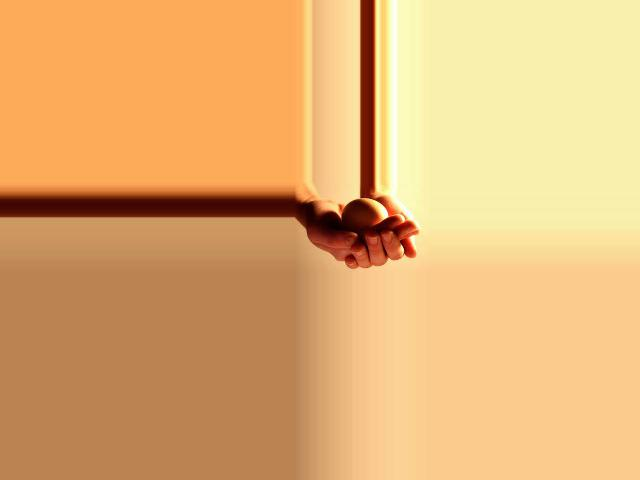egg: (340, 198, 387, 230)
